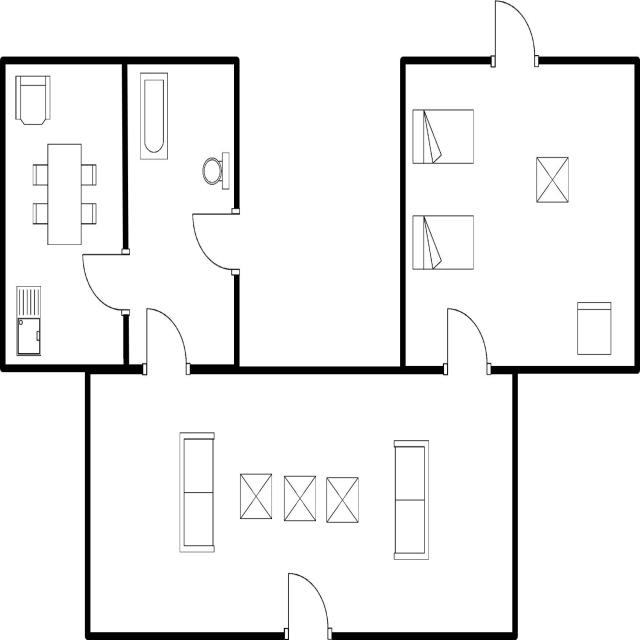armchair: (12, 71, 53, 131)
bed: (409, 104, 477, 170), (409, 210, 476, 276)
coffee_table: (533, 150, 571, 209), (322, 473, 362, 529), (281, 472, 320, 526), (236, 469, 275, 522)
dining_table: (28, 139, 98, 249)
large_sink: (198, 147, 231, 196)
large_sofa: (176, 428, 219, 559), (389, 434, 432, 565)
sink: (12, 281, 46, 361)
small_sofa: (572, 296, 614, 358)
tub: (137, 68, 170, 163)
